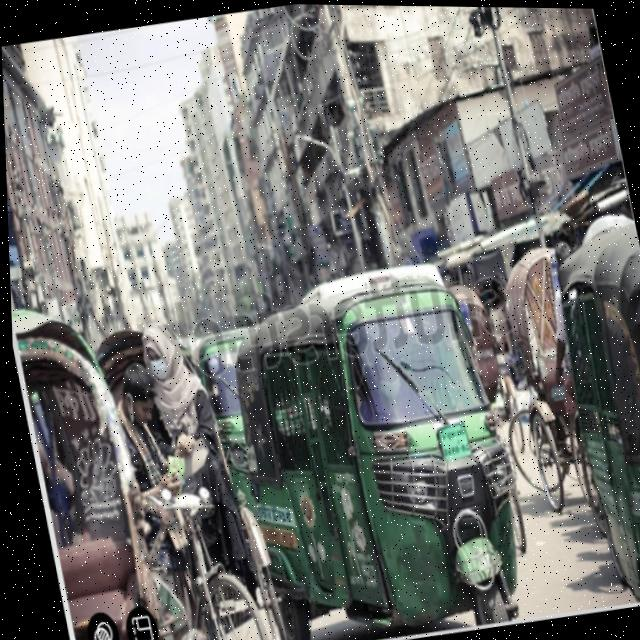cng: (221, 225, 518, 640)
